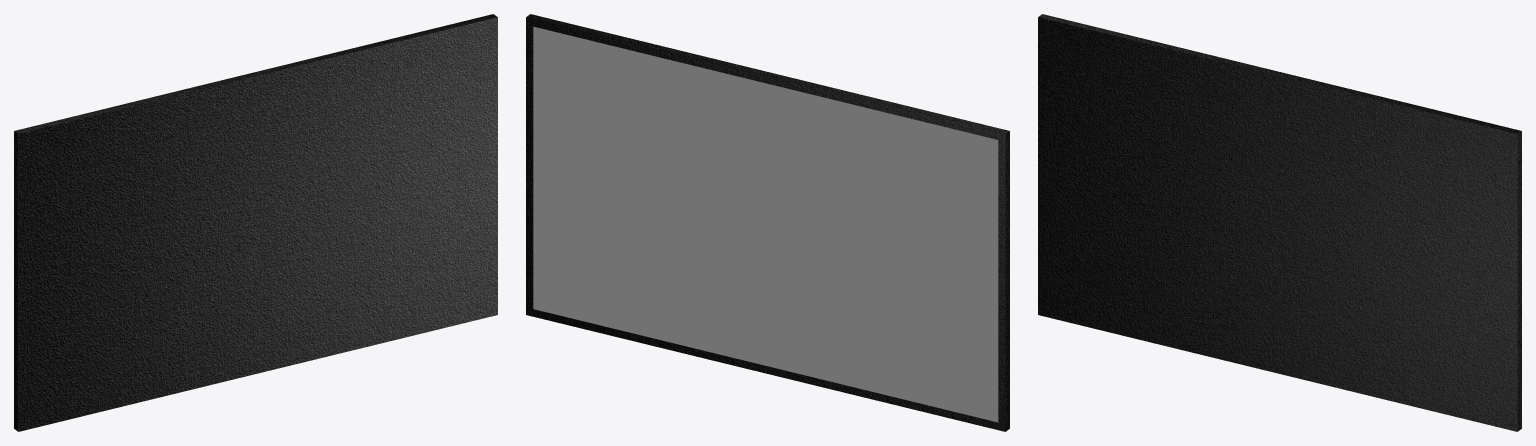
File: presentation_board.fbx
3 renders of one model, left to right at view 1: azimuth 30°, elevation 25°; view 2: azimuth 150°, elevation 25°; view 3: azimuth 330°, elevation 25°, orthographic.
Parts seen in each view (by area): view 1: Plane.002; view 2: Plane.002; view 3: Plane.002.
Part boxes in pixels (x1,y1,x2,y2): Plane.002: (14,14,497,431); Plane.002: (526,14,1009,431); Plane.002: (1038,14,1521,431).
Bounding box in the file's own units: 640 × 380 × 10.
2 materials, 1 textured.
